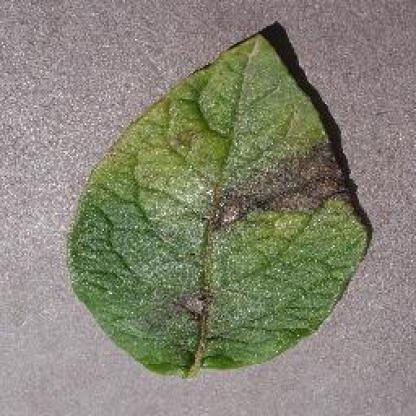bad leaf: (77, 16, 361, 368)
